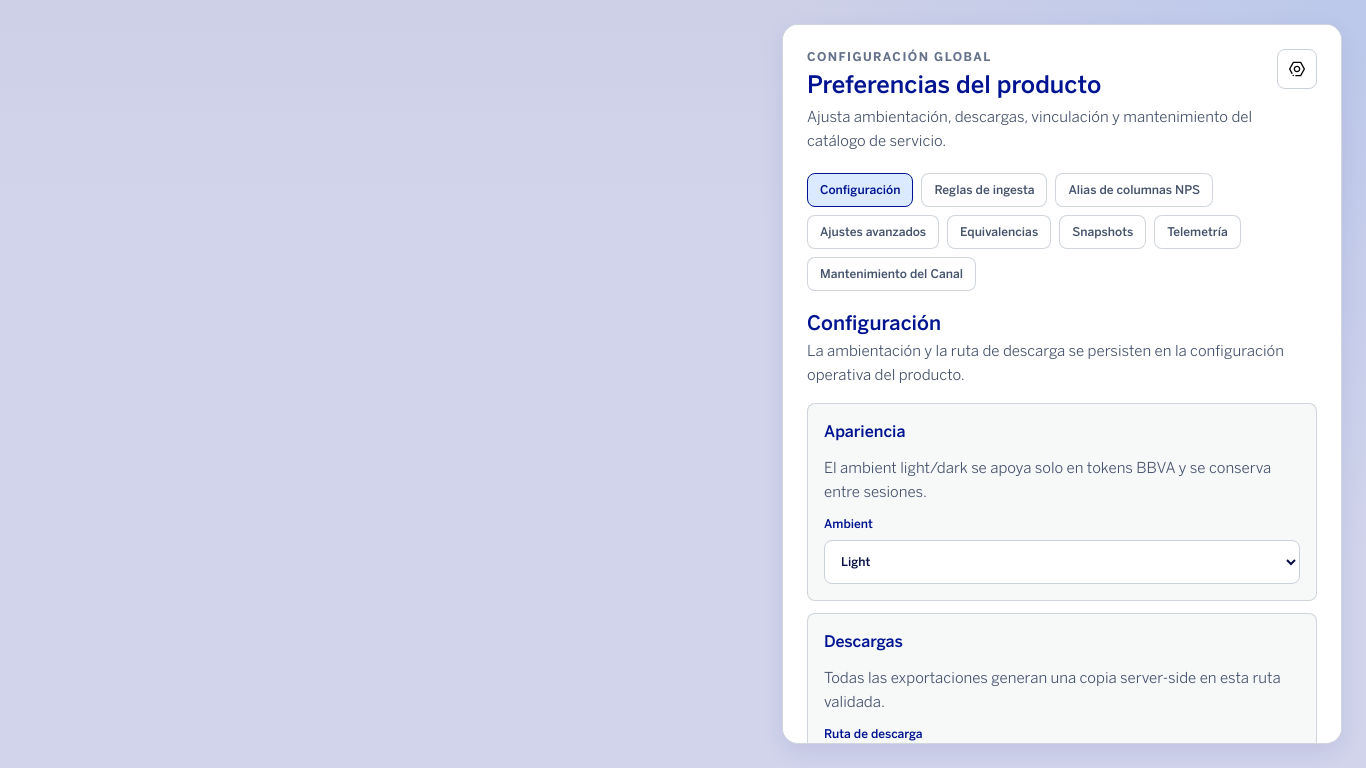
shows fixed score rules separately from editable equivalences
Click the tab "Reglas de ingesta" at (984, 190), box [921,173,1048,207]
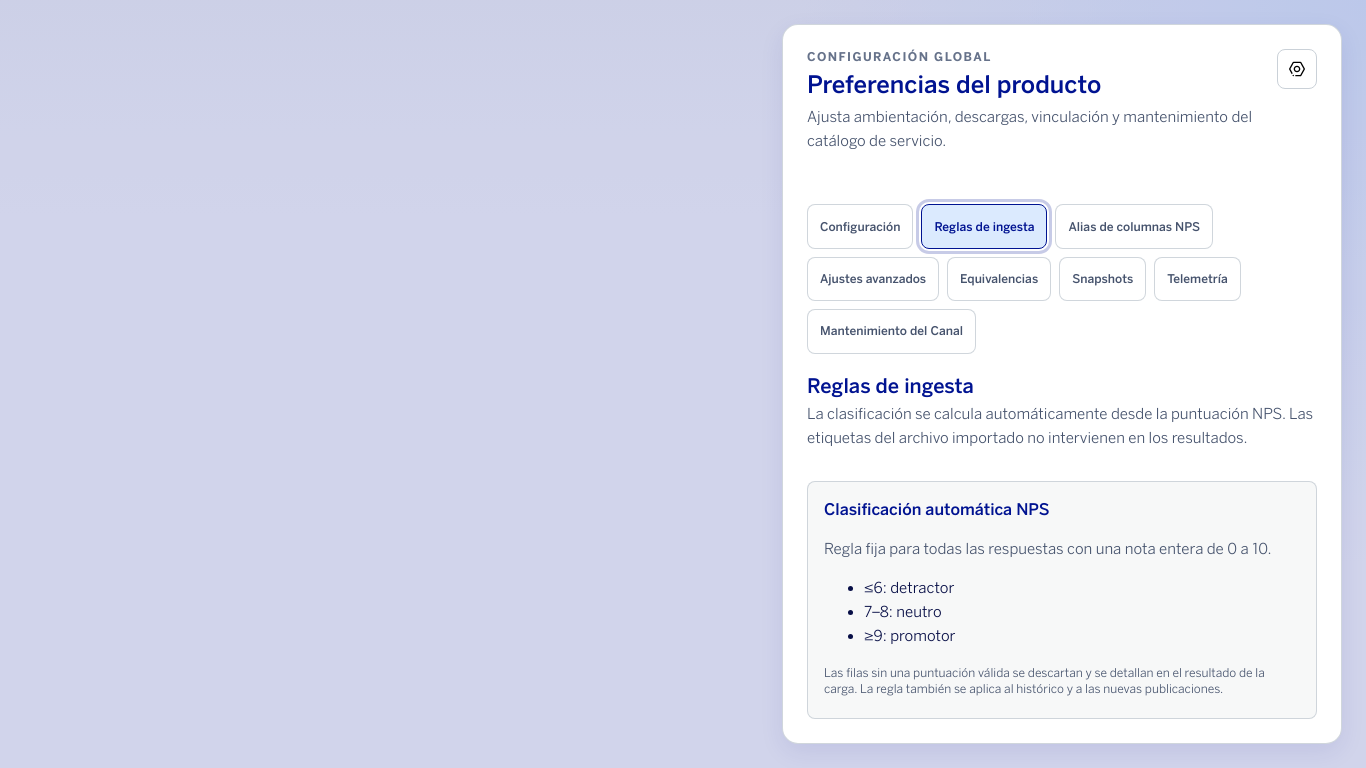
Check: the heading "Clasificación automática NPS" is shown, box [824,500,1050,519]
Check: the list item "≤6: detractor" is shown, box [864,578,954,596]
Check: the list item "7–8: neutro" is shown, box [864,602,942,620]
Click the tab "Equivalencias" at (999, 279), box [947,257,1051,301]
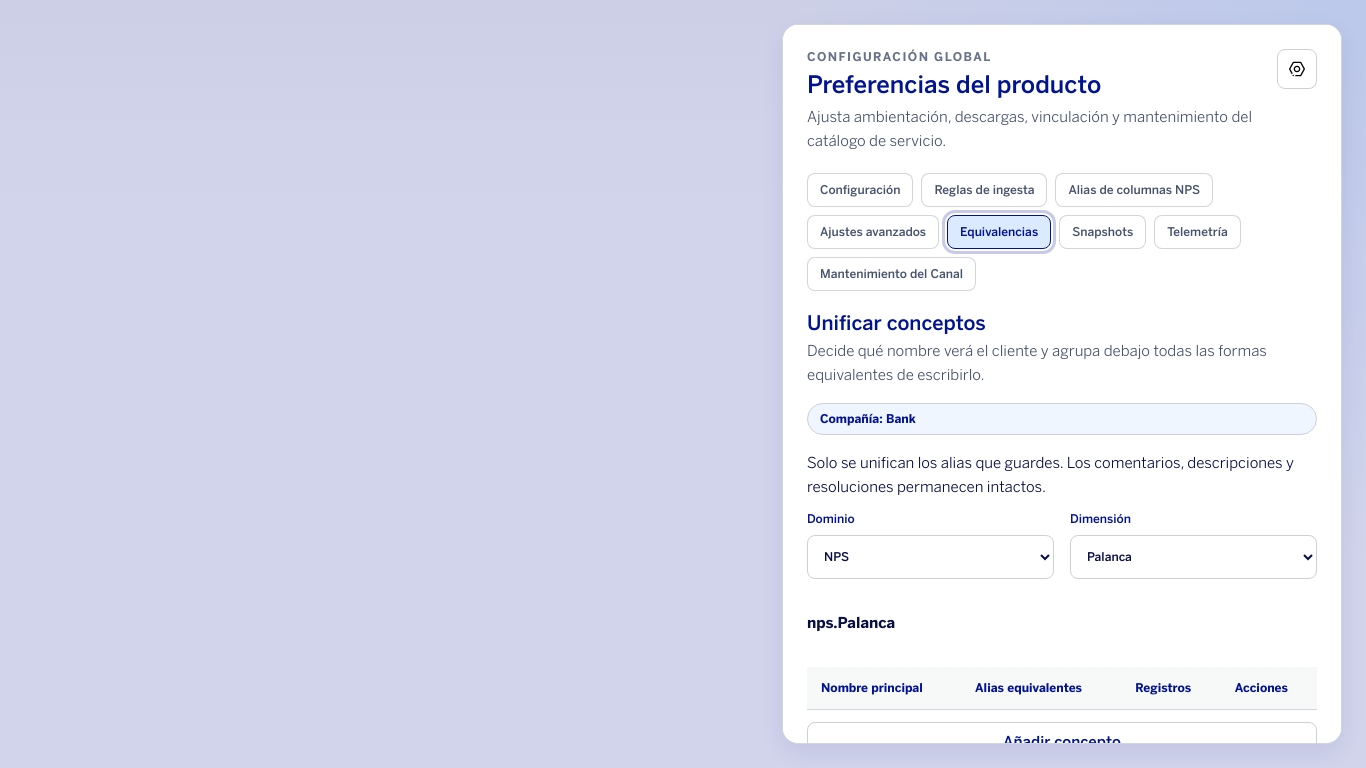
Check: the heading "nps.Palanca" is shown, box [807,614,895,632]
